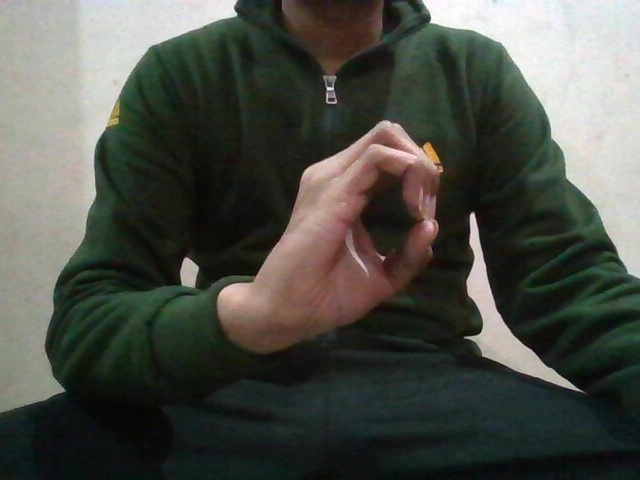O: (274, 111, 445, 325)
